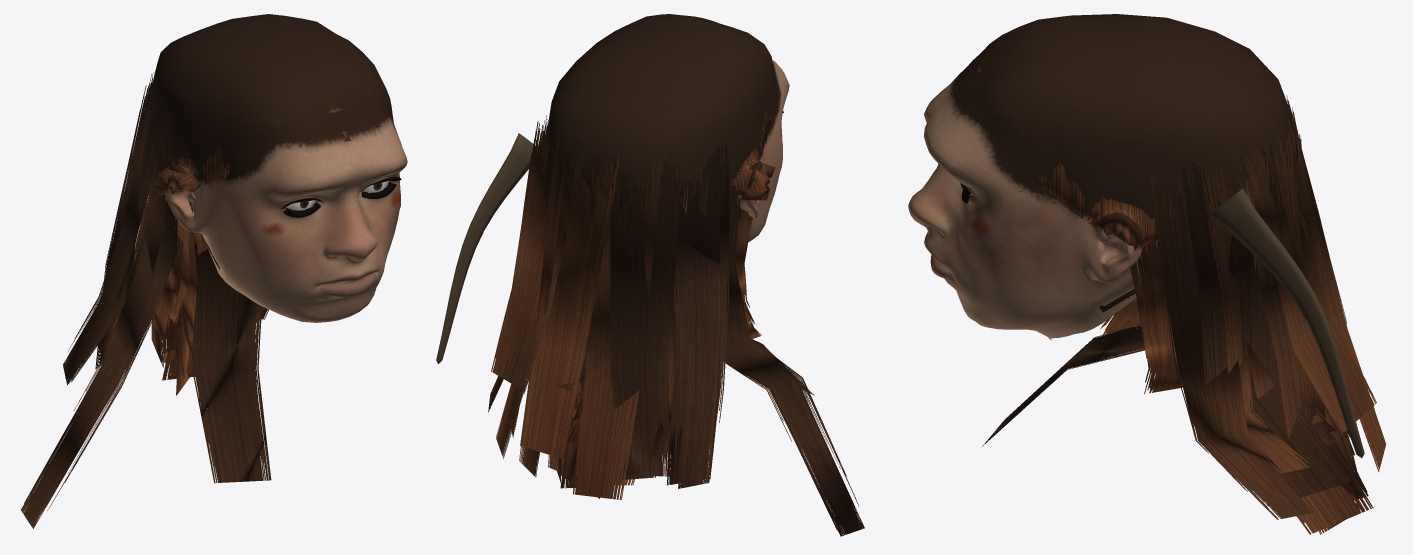
Rendered from SM_Part_NeanderthalF_head.gltf.
The picture shows the model from 3 angles, left to right: view 1: azimuth 30°, elevation 25°; view 2: azimuth 150°, elevation 25°; view 3: azimuth 270°, elevation 25°; orthographic projection. The views are drawn at different scales.
Visible parts, largest first — view 1: SM_Part_NeanderthalF_head; view 2: SM_Part_NeanderthalF_head; view 3: SM_Part_NeanderthalF_head.
Boxes of the visible parts, x1,y1,x2,y2 form: SM_Part_NeanderthalF_head: (21,14,407,528); SM_Part_NeanderthalF_head: (436,14,864,536); SM_Part_NeanderthalF_head: (908,14,1386,534).
Bounding box in the file's own units: 0.3061 × 0.3425 × 0.2899.
Materials: 9 (4 with a texture image).
